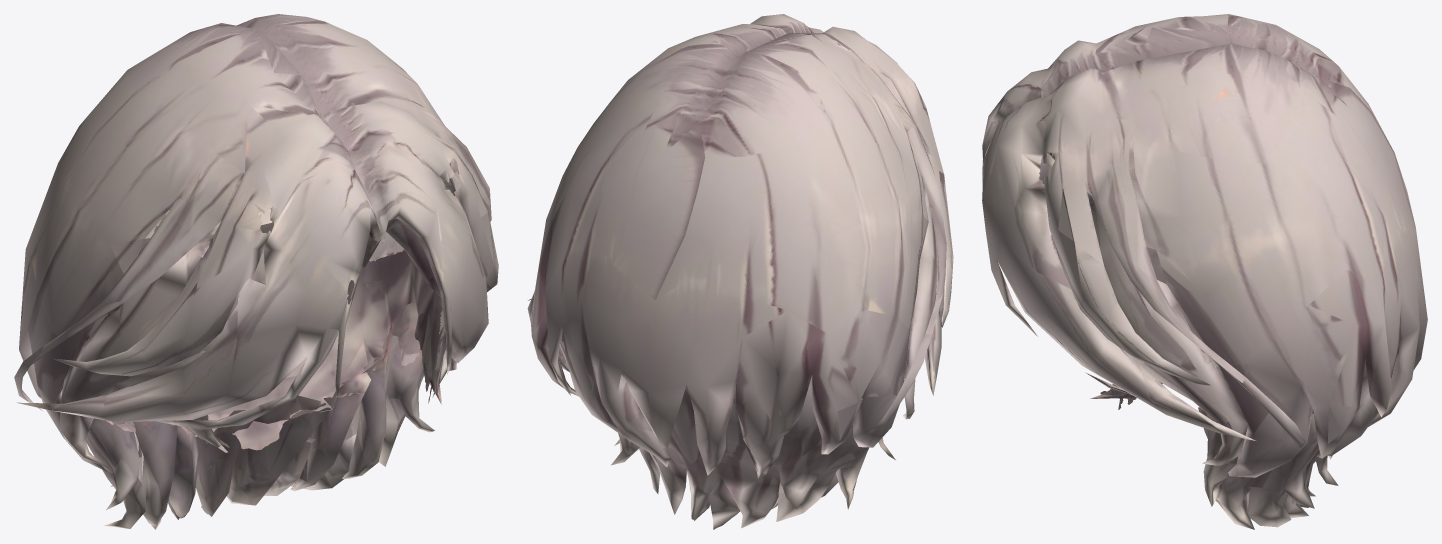
The model's file is shag.glb.
3 views of the same model, side by side, from view 1: azimuth 30°, elevation 25°; view 2: azimuth 150°, elevation 25°; view 3: azimuth 270°, elevation 25° (orthographic). The views are drawn at different scales.
Parts seen in each view (by area): view 1: Mesh_0; view 2: Mesh_0; view 3: Mesh_0.
Boxes of the visible parts, x1,y1,x2,y2 form: Mesh_0: [14, 14, 498, 529]; Mesh_0: [527, 14, 953, 529]; Mesh_0: [982, 14, 1427, 529].
Size of the model in its own units: 1.77 by 1.87 by 1.62.
Materials: 1 (1 with a texture image).
